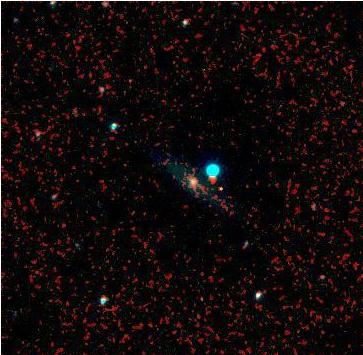star: (202, 173, 232, 203)
